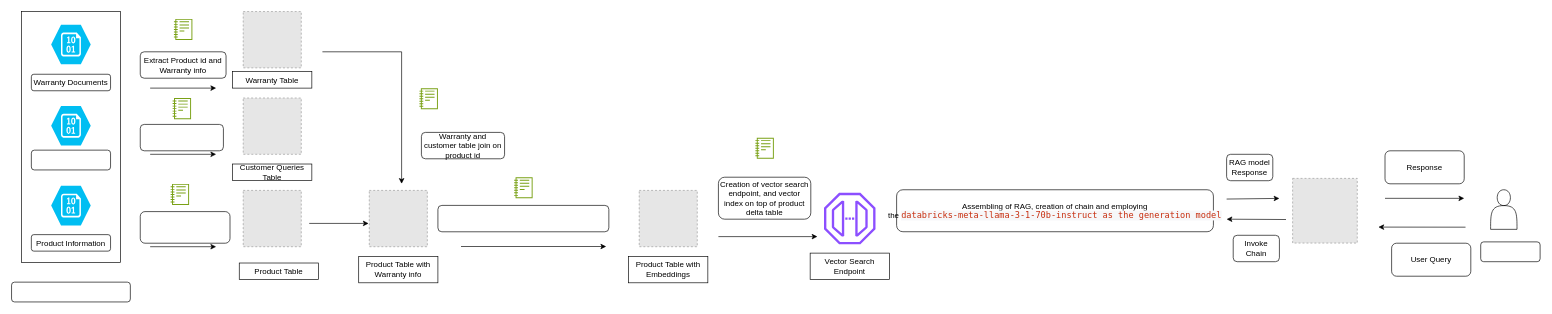
This 1552x314 diagram has some shape labels left out. Grey dashed boxes stand in for pictures. Each missing label, with the centre of its shape:
Customer Queries: (71,159)
Data Sources: (70,291)
Embedding of Product Description column by databricks-gte-large-en" model: (523,218)
Extract the customer queries information and dedup: (181,137)
Extract the product information and remove the non-english records: (185,227)
User: (1510,251)
